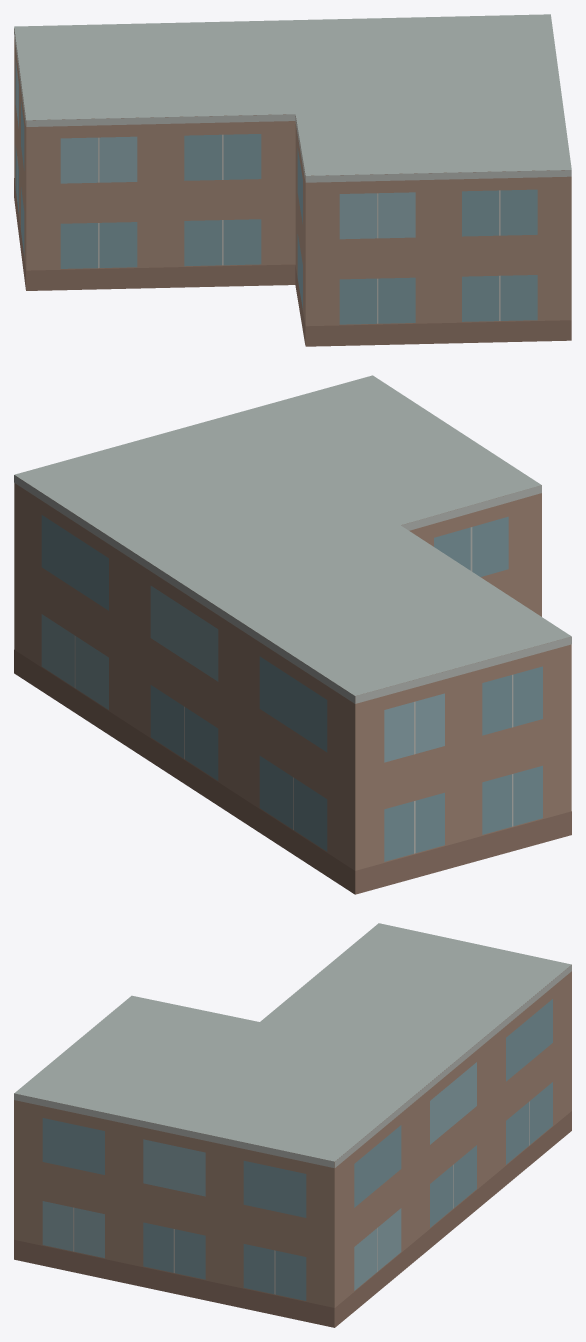
The model's file is survey-upis-32689357.glb.
3 views of the same model, one above another, from view 1: azimuth 30°, elevation 25°; view 2: azimuth 150°, elevation 25°; view 3: azimuth 270°, elevation 25° (orthographic). The views are drawn at different scales.
Visible parts, largest first — view 1: survey-upis-32689357.tmp; view 2: survey-upis-32689357.tmp; view 3: survey-upis-32689357.tmp.
Boxes of the visible parts, bbox=[...] form: survey-upis-32689357.tmp: bbox=[14, 14, 571, 346]; survey-upis-32689357.tmp: bbox=[14, 375, 571, 894]; survey-upis-32689357.tmp: bbox=[14, 923, 571, 1327].
Size of the model in its own units: 18.79 by 6.1 by 18.56.
